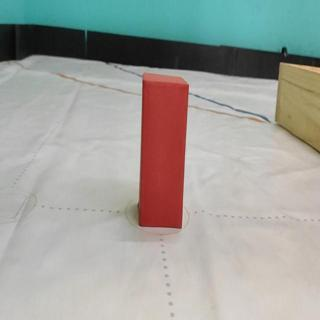redbox: (140, 72, 189, 229)
